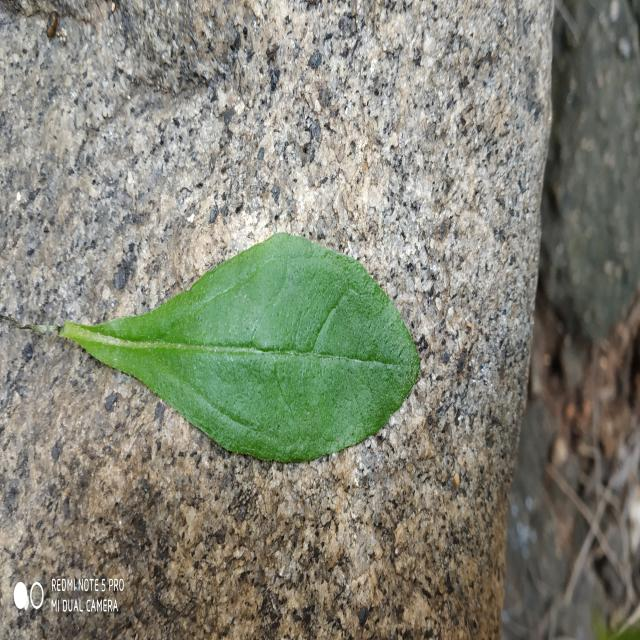bringaraja: (59, 232, 420, 462)
